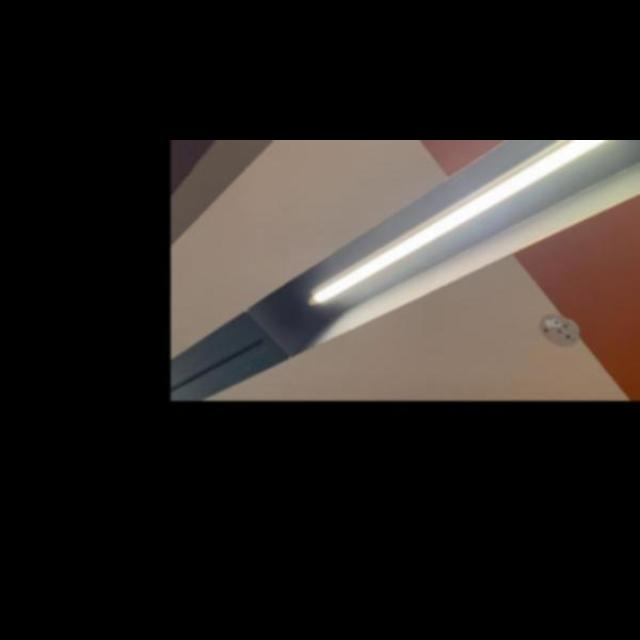Straight-Tube-Fluorescent-Lamp: (296, 140, 640, 316)
